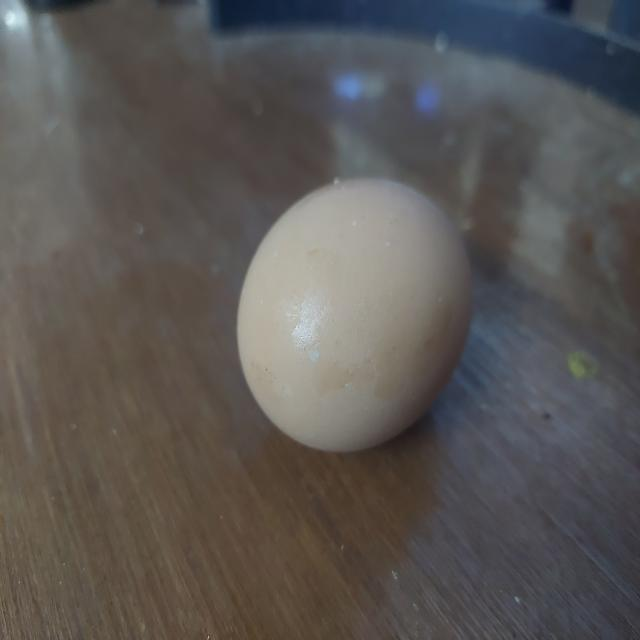egg: (231, 166, 480, 462)
